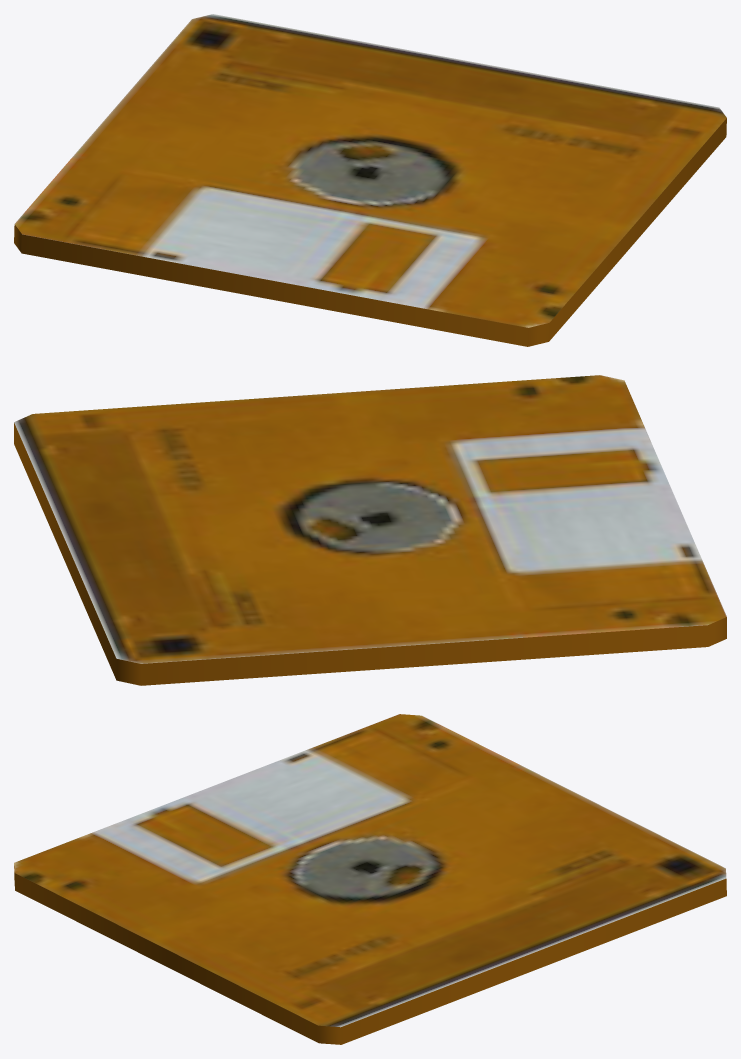
The model's file is floppy.dae.
3 views of the same model, one above another, from view 1: azimuth 30°, elevation 25°; view 2: azimuth 150°, elevation 25°; view 3: azimuth 270°, elevation 25° (orthographic). The views are drawn at different scales.
Parts seen in each view (by area): view 1: Hackers_merged_out_004; view 2: Hackers_merged_out_004; view 3: Hackers_merged_out_004.
Part boxes in pixels (x1,y1,x2,y2): Hackers_merged_out_004: (14, 14, 726, 346); Hackers_merged_out_004: (14, 375, 726, 685); Hackers_merged_out_004: (14, 714, 726, 1044).
Bounding box in the file's own units: 0.2958 × 0.2953 × 0.0155.
Materials: 1 (1 with a texture image).
